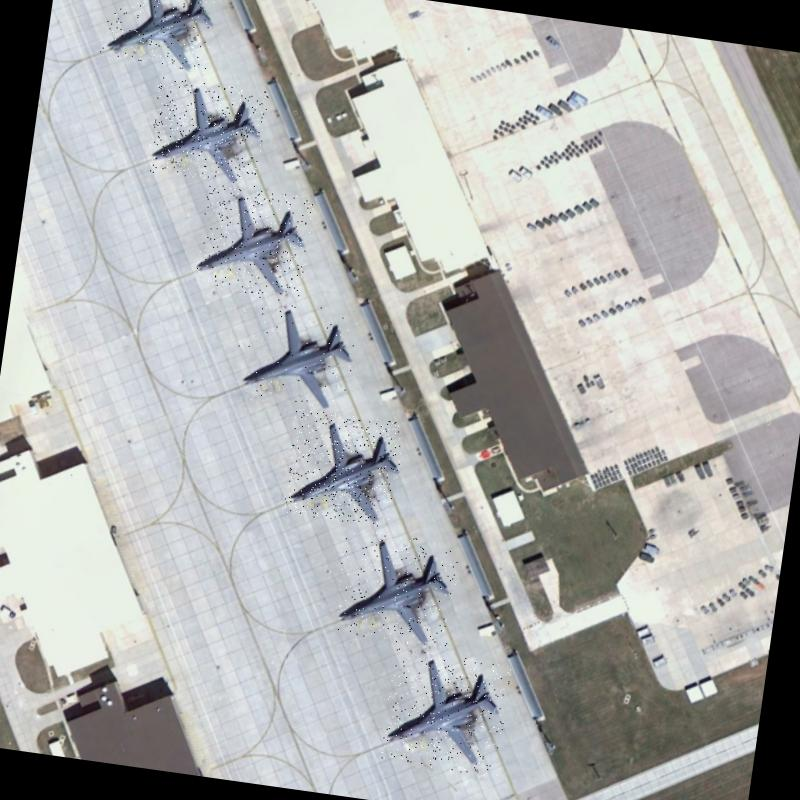A10: (378, 648, 512, 777), (230, 294, 362, 415), (331, 528, 461, 648), (281, 408, 405, 528), (194, 183, 314, 300), (145, 76, 268, 187), (99, 0, 220, 72)
